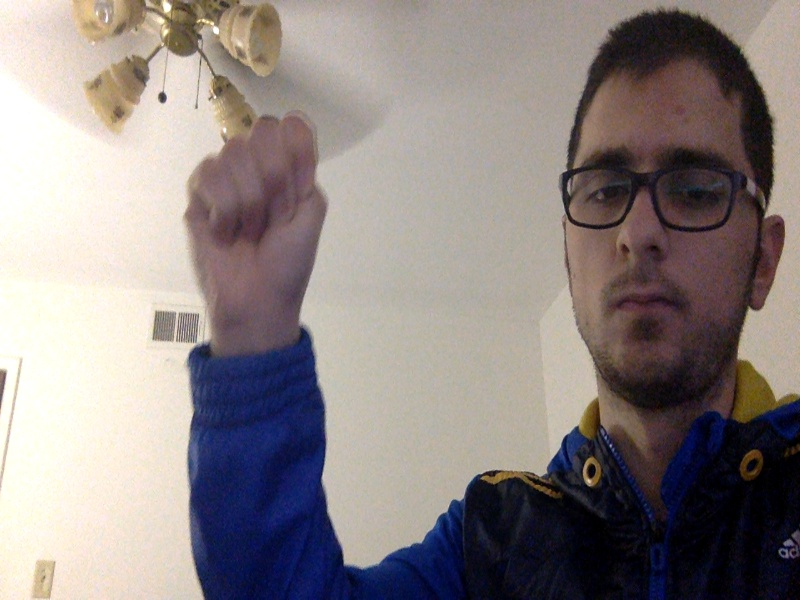0-hand: (188, 116, 325, 320)
